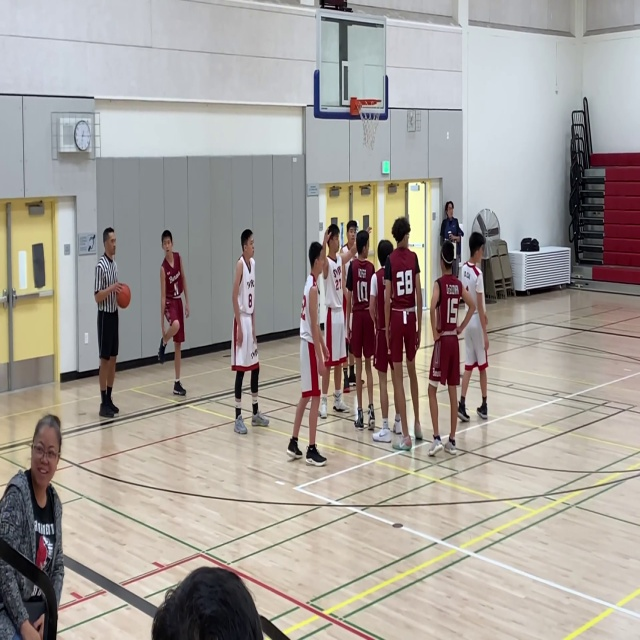Basketball: (115, 283, 131, 308)
